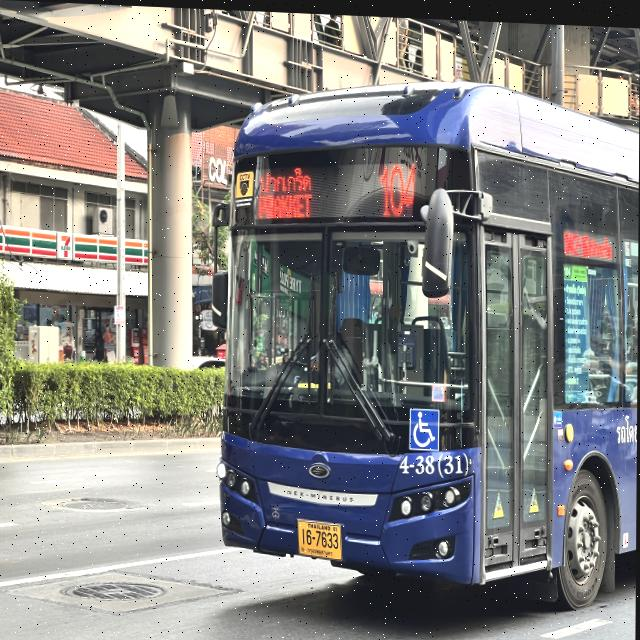Bus-Line-Number: (374, 150, 420, 218)
Destination-Sign-Normal: (252, 155, 319, 223)
TSB-Bus: (204, 55, 640, 612)
